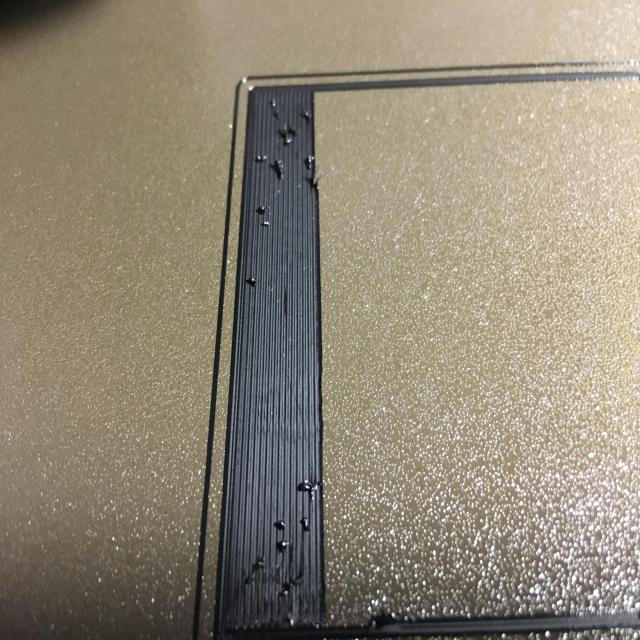spaghetti: (229, 78, 332, 312), (214, 434, 328, 639)
